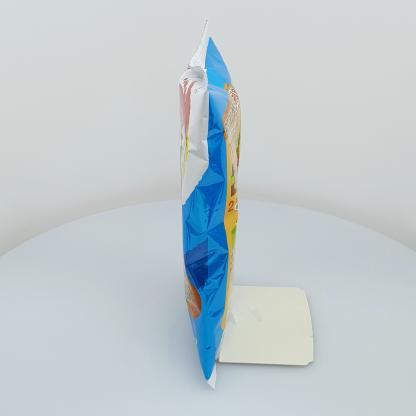Plastic Packaging: (140, 12, 260, 392)
